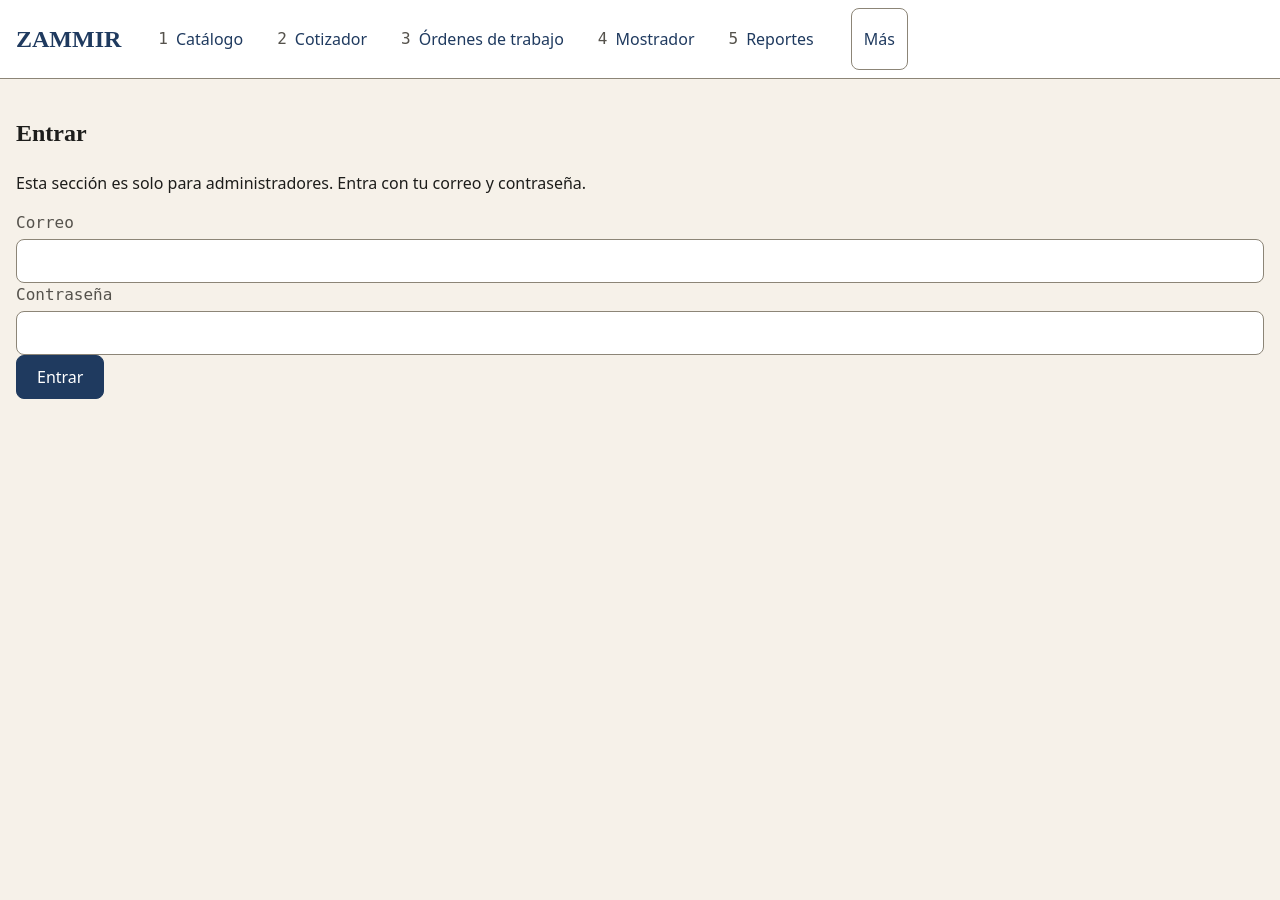
Test case: pantalla de bitácora › las acciones del sistema, sin persona, se marcan como Sistema
The width and height of the screenshot is (1280, 900).
Type "a@ejemplo.invalid" into the field labelled "Correo" at (640, 261), box [16,239,1264,283]
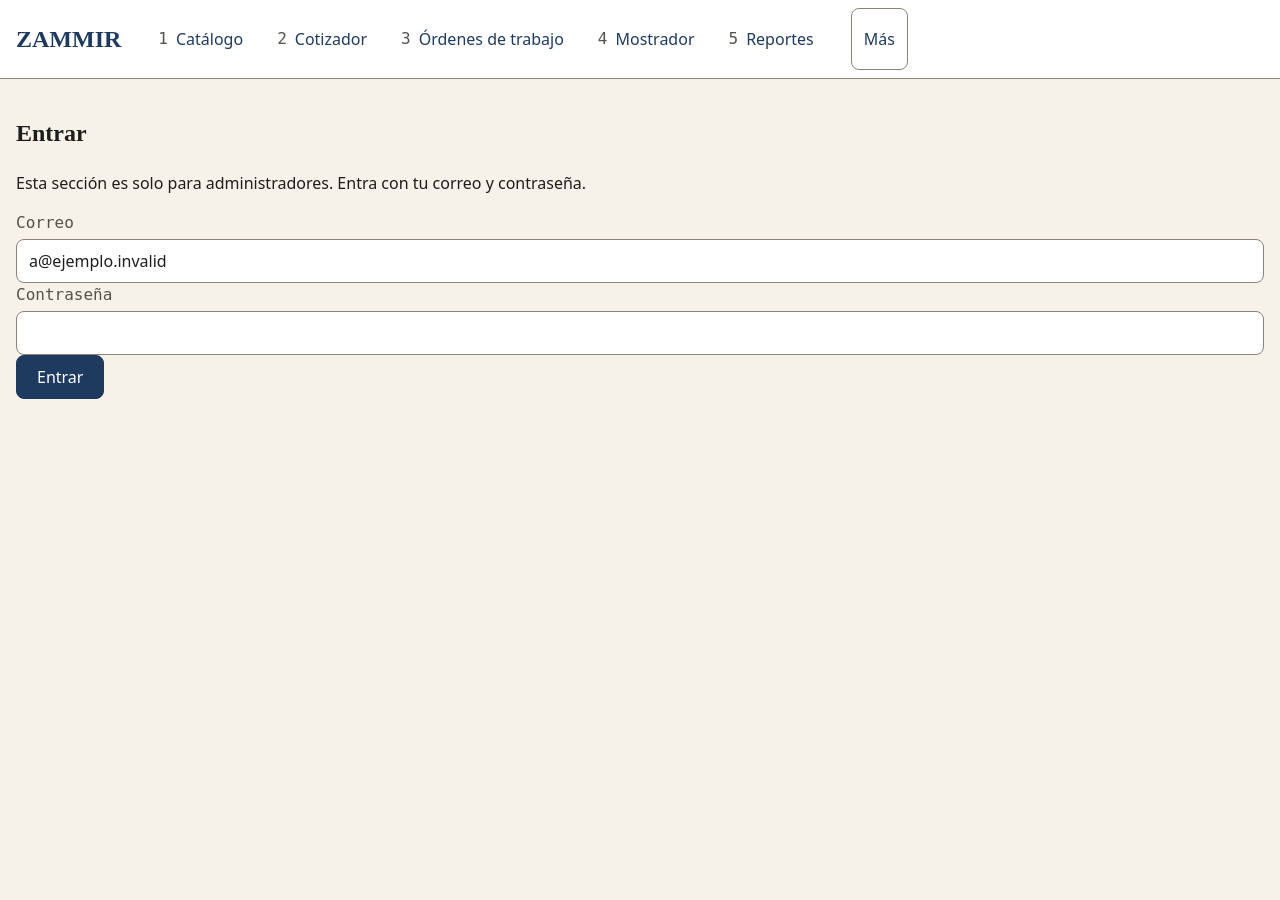
Type "clave-de-prueba-1" into the password field labelled "Contraseña" at (640, 333), box [16,311,1264,355]
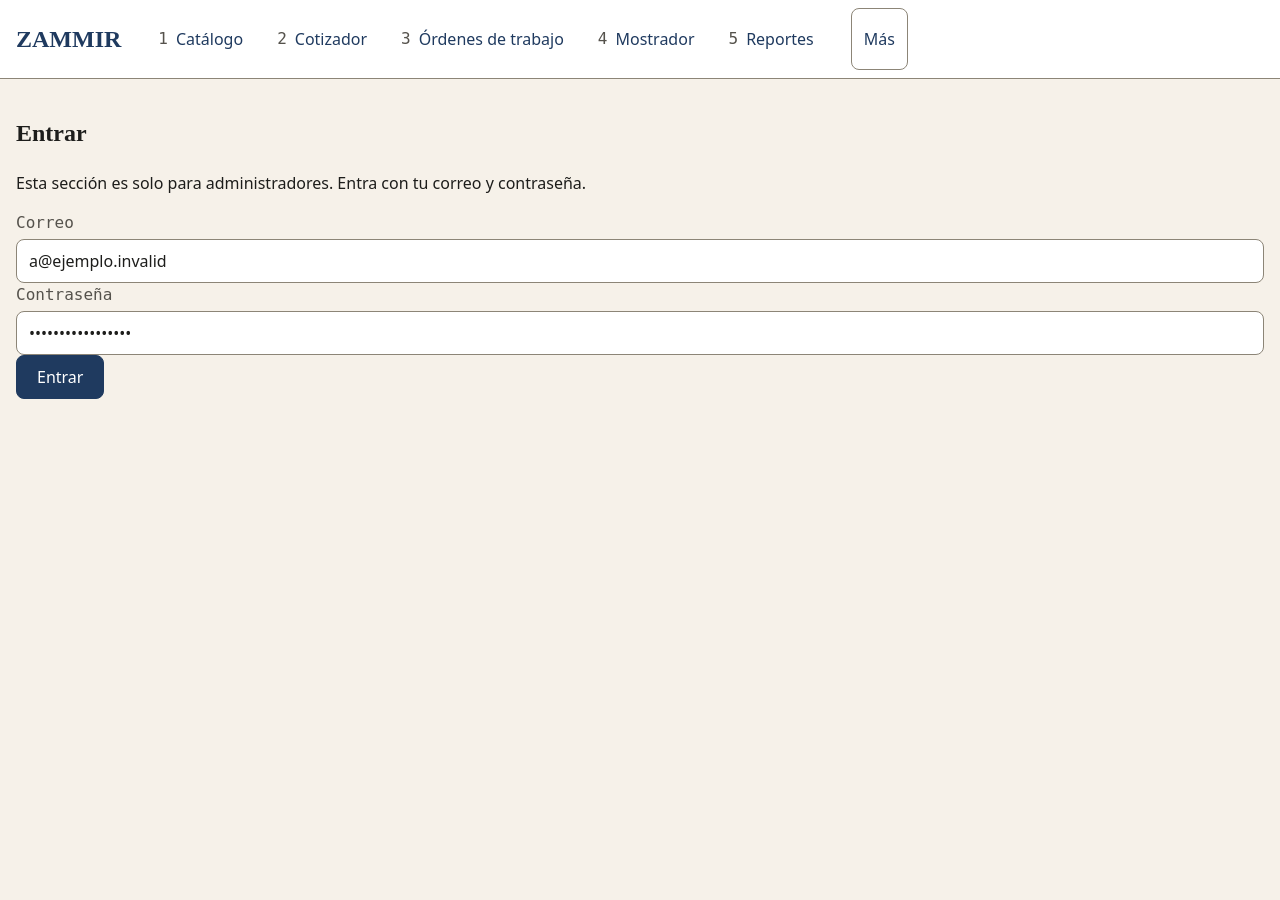
Click the button "Entrar" at (60, 377), box [16,355,104,399]
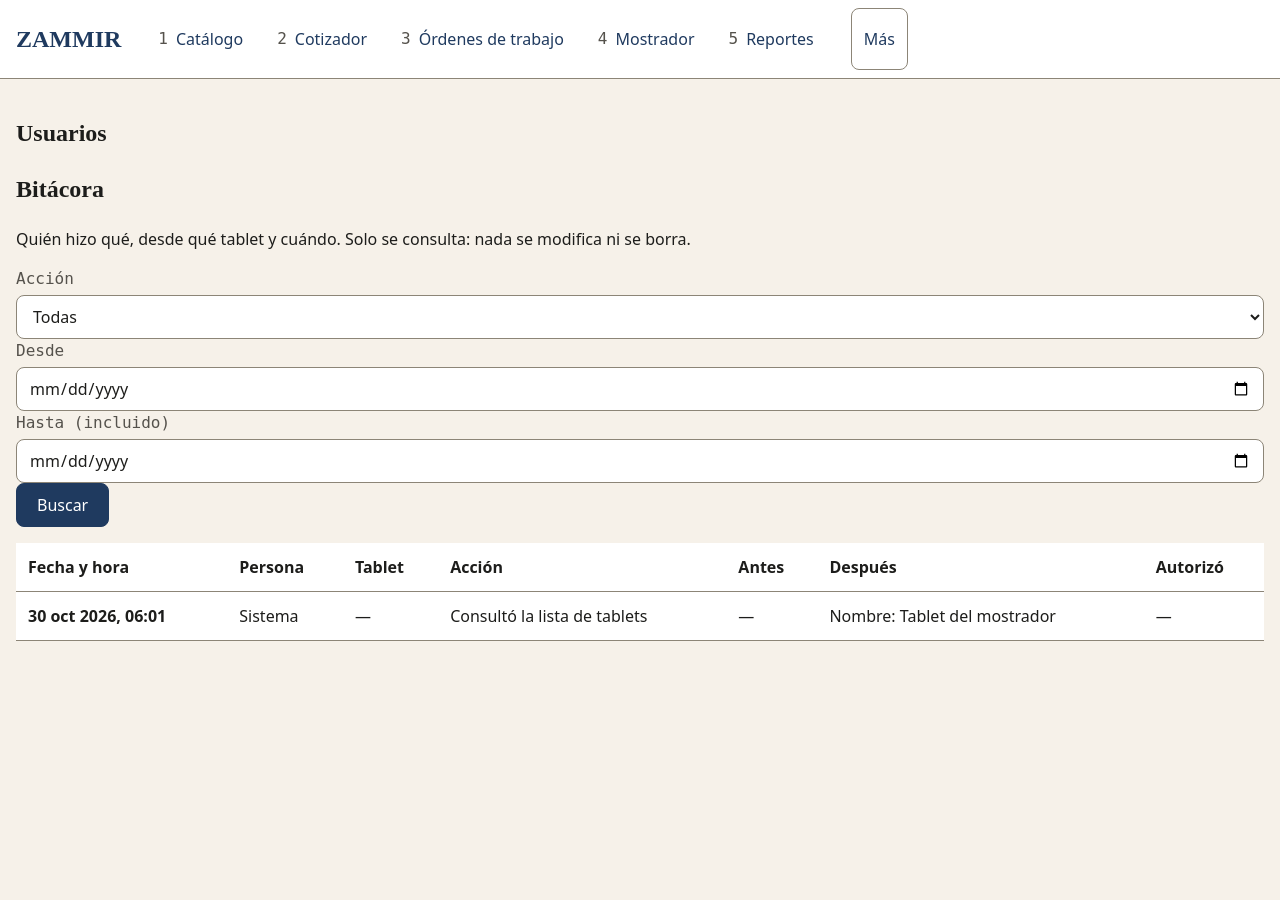
Expected: the text "Sistema" is shown, [227,591,343,640]
